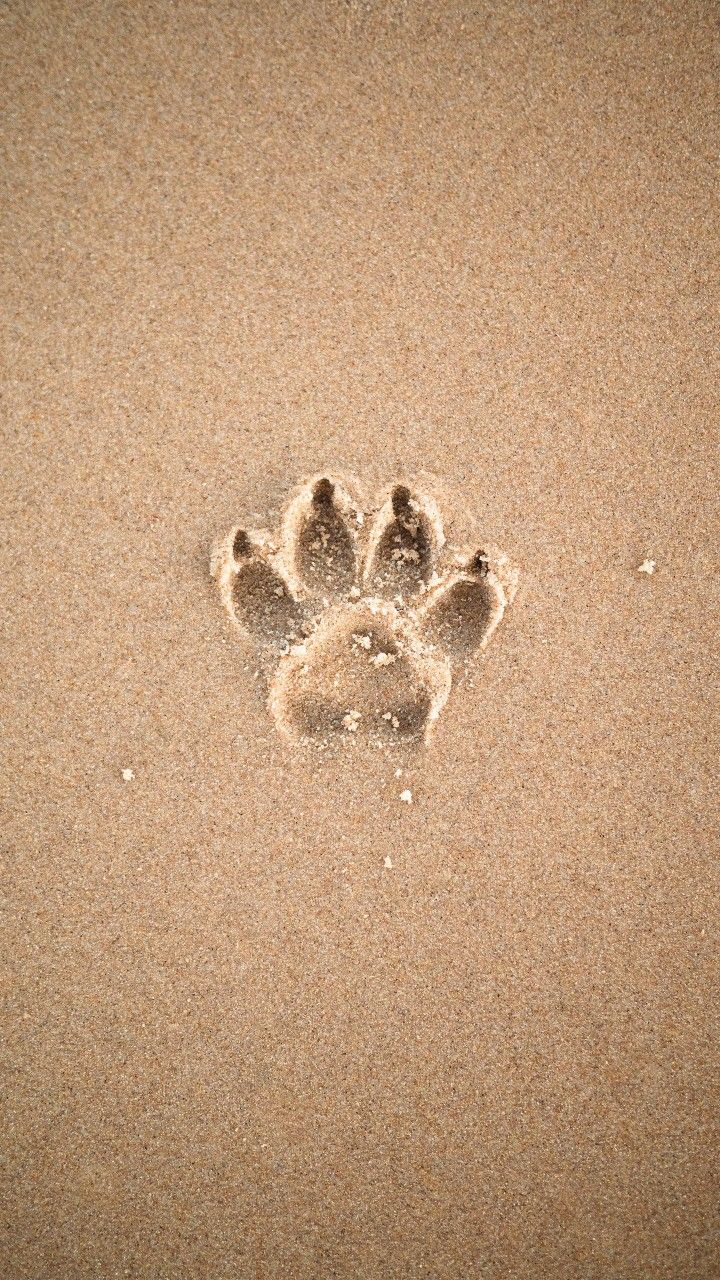chien: (209, 475, 515, 768)
